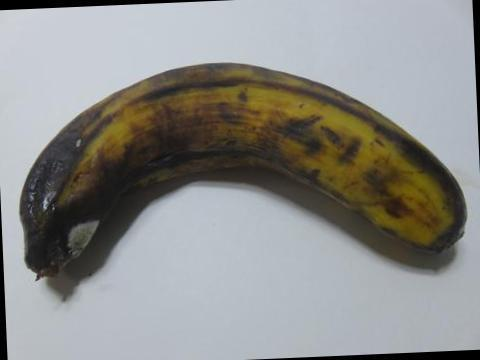overripe: (14, 44, 479, 331)
rotten: (0, 133, 145, 282)
